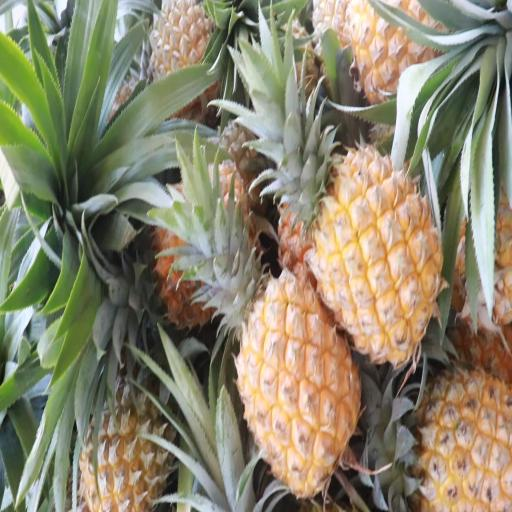Pineapple - v8 v1: (286, 138, 438, 352), (224, 276, 358, 496), (386, 350, 512, 512), (85, 322, 175, 512)
